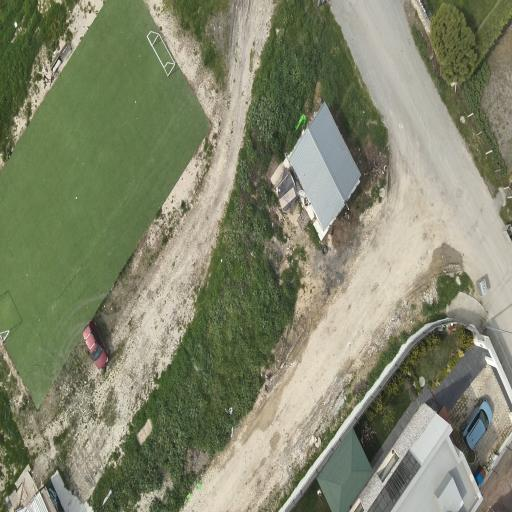car: (462, 400, 492, 449), (83, 320, 108, 369)
